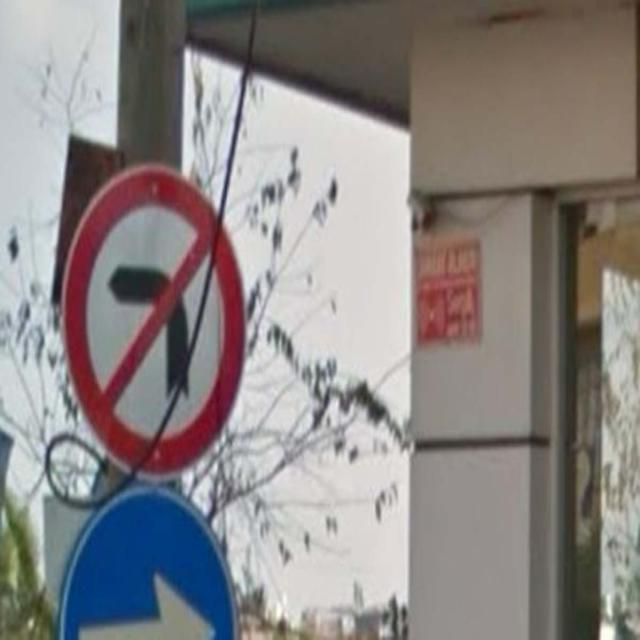soladonulmez: (62, 163, 246, 477)
